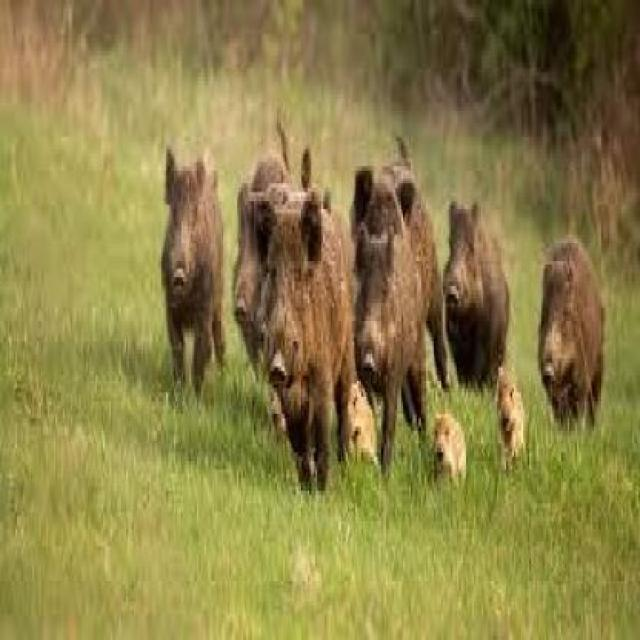wildboar: (230, 103, 327, 445), (352, 125, 451, 447), (258, 185, 358, 497), (350, 222, 433, 469), (160, 135, 228, 410), (539, 236, 607, 450), (440, 197, 512, 392), (492, 354, 528, 472), (342, 368, 380, 474), (430, 402, 472, 492)
